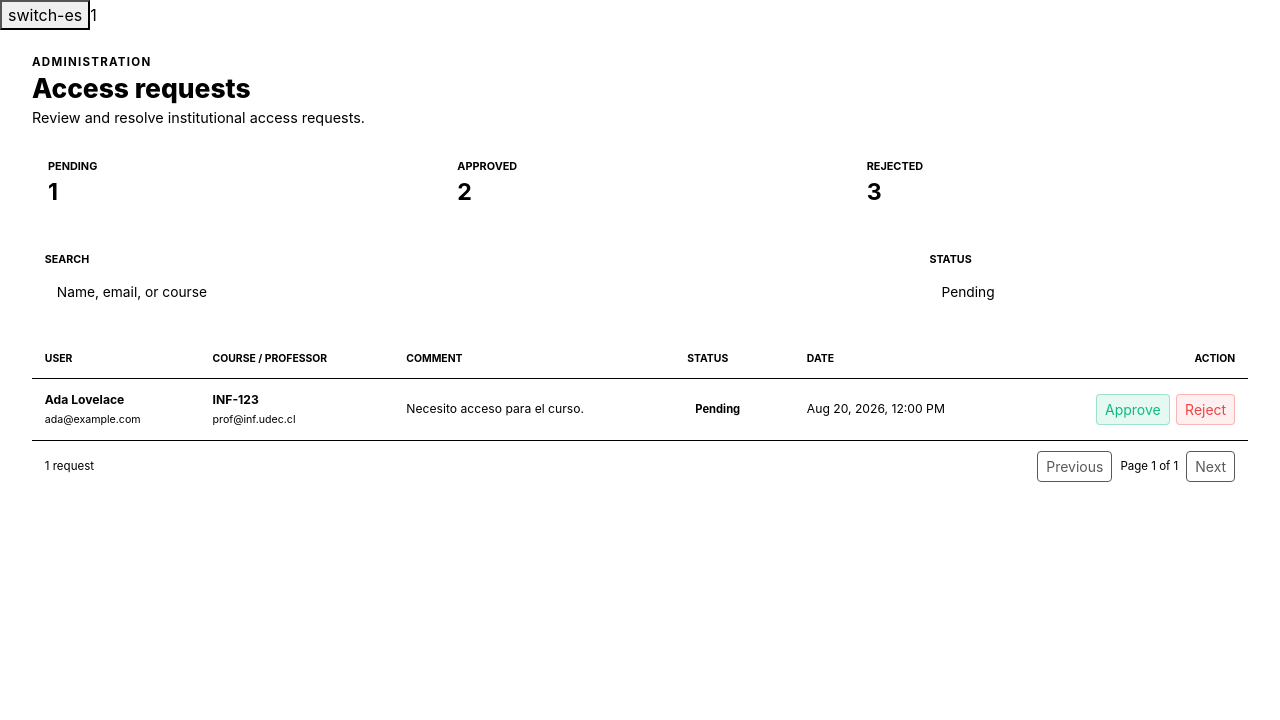
Test: AdminAccessRequests i18n and decisions › rejects through a danger modal and posts the optional reason
The width and height of the screenshot is (1280, 720).
Expected: the text "ada@example.com" is shown, [45,413,141,426]
Click the button "Reject".
click(1206, 410)  # box [1176,394,1235,425]
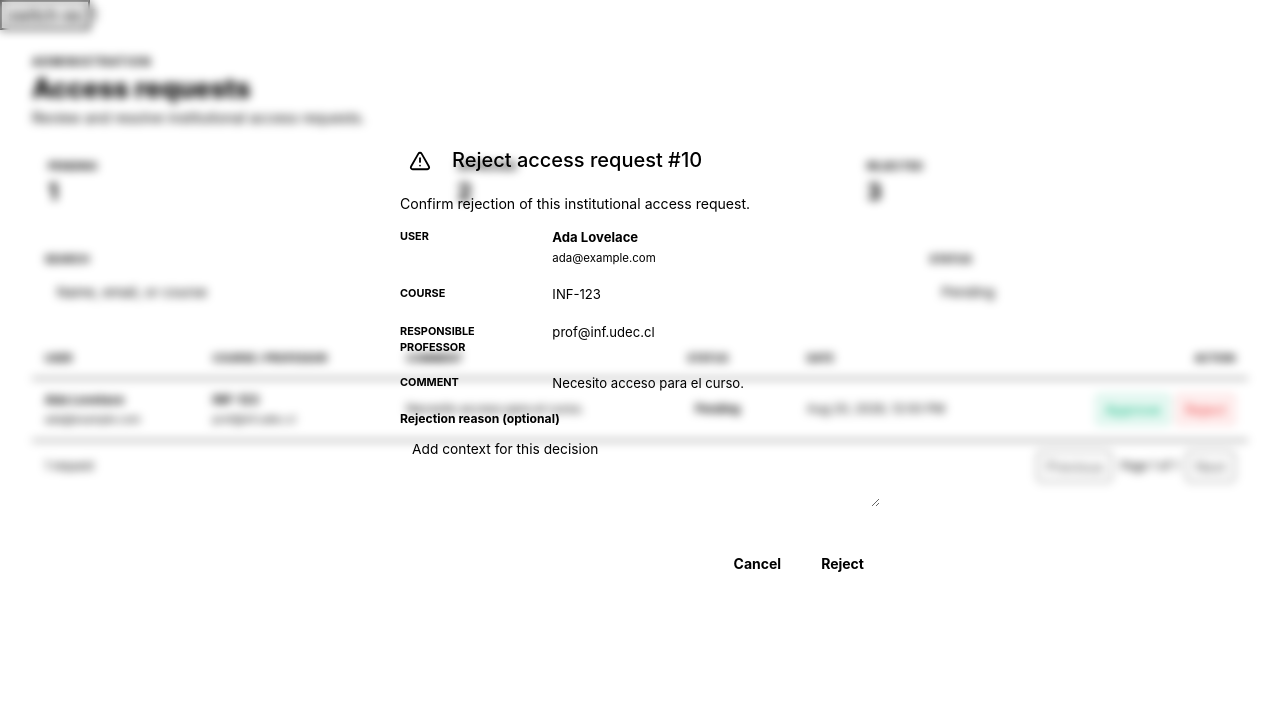
Type "Course is not active" into the text box labelled "Rejection reason (optional)".
click(640, 470); type("Course is not active")  # box [400,434,880,507]
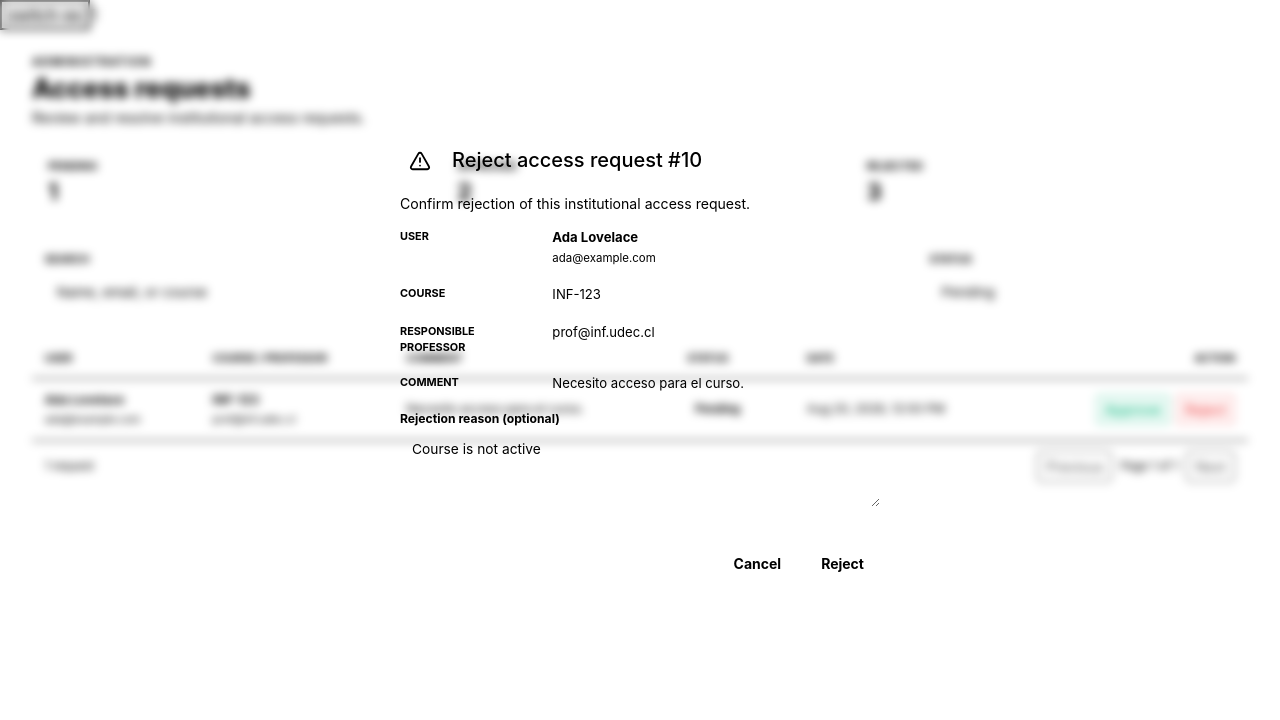
Click the button "Reject".
click(843, 563)  # box [805,543,880,583]
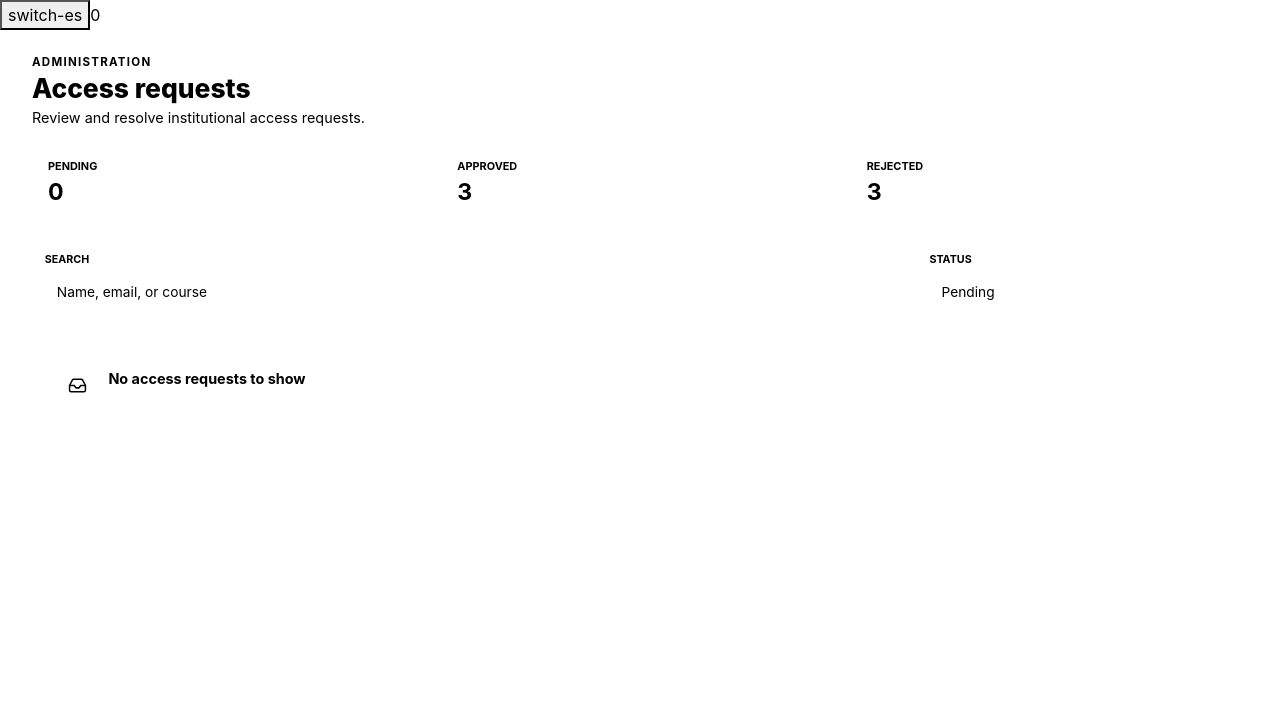
Expected: the text named "pending-count" reads "0", [90,5,100,25]
